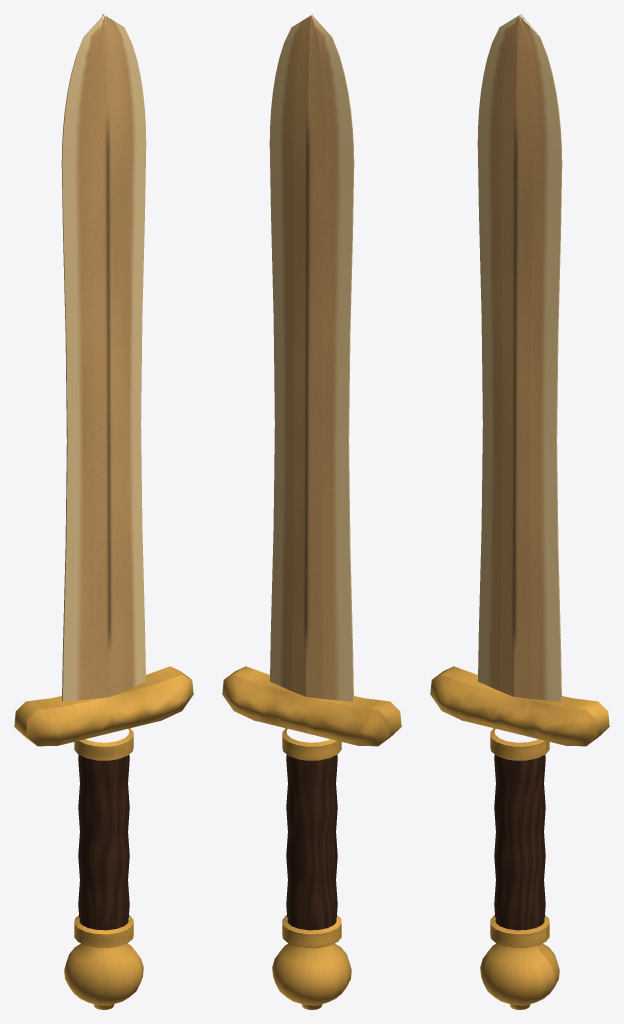
Rendered from BronzeGladius.glb.
The picture shows the model from 3 angles, left to right: view 1: azimuth 30°, elevation 25°; view 2: azimuth 150°, elevation 25°; view 3: azimuth 330°, elevation 25°; orthographic projection.
Parts seen in each view (by area): view 1: BronzeGladius; view 2: BronzeGladius; view 3: BronzeGladius.
Boxes of the visible parts, bbox=[...] form: BronzeGladius: bbox=[14, 14, 193, 1009]; BronzeGladius: bbox=[222, 14, 401, 1009]; BronzeGladius: bbox=[430, 14, 609, 1009].
Bounding box in the file's own units: 0.58 × 3.28 × 0.2333.
Materials: 1 (1 with a texture image).
